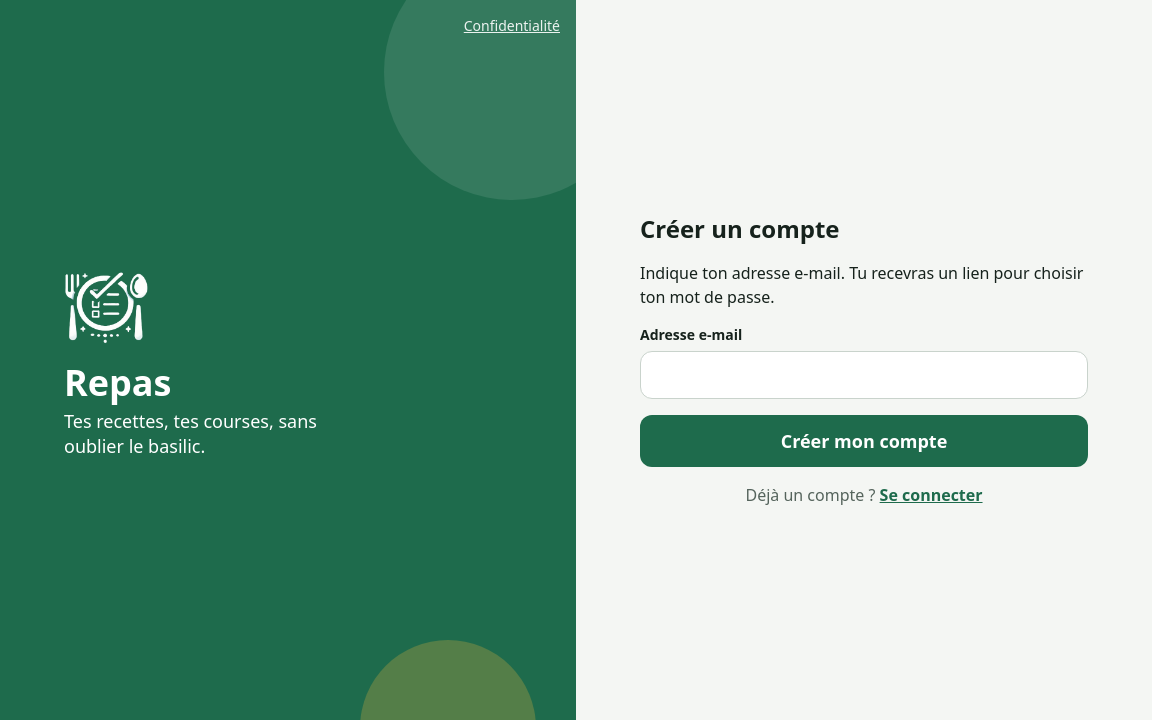
Test: RegisterView › répond clairement à un 429 (Retry-After null)
The image size is (1152, 720).
Type "alexiane@example.com" into the field labelled "Adresse e-mail" at (864, 375), box left=640, top=351, right=1088, bottom=399
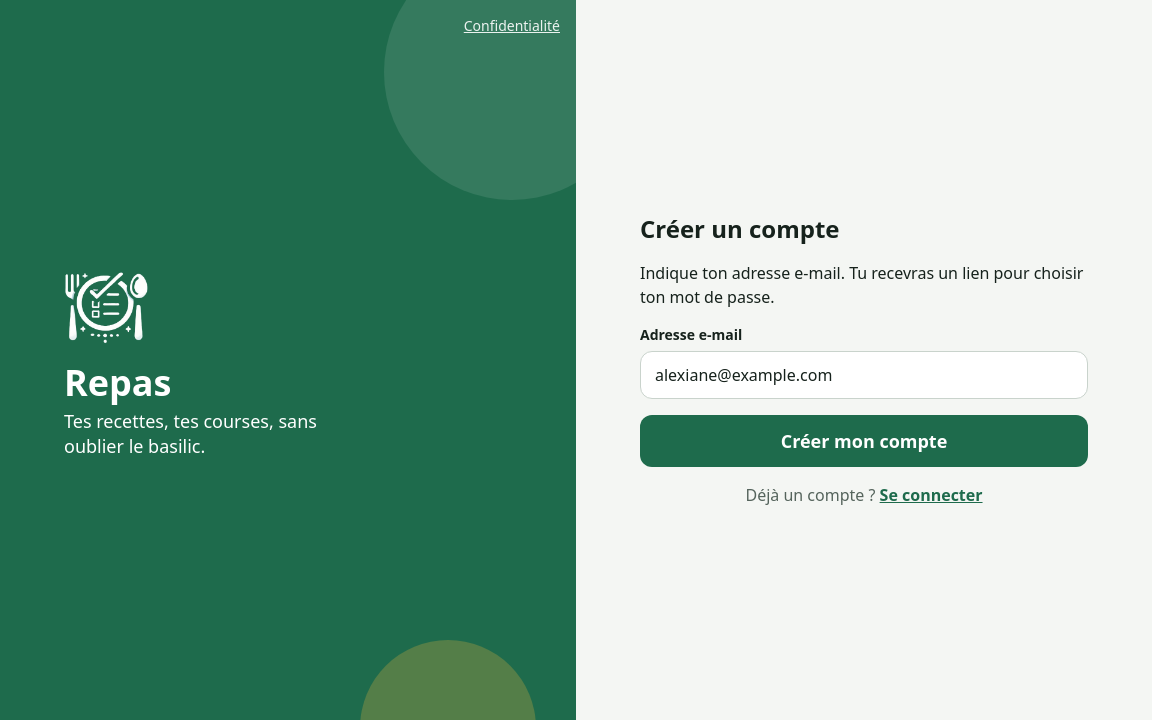
Submit the form, box left=640, top=325, right=1088, bottom=467
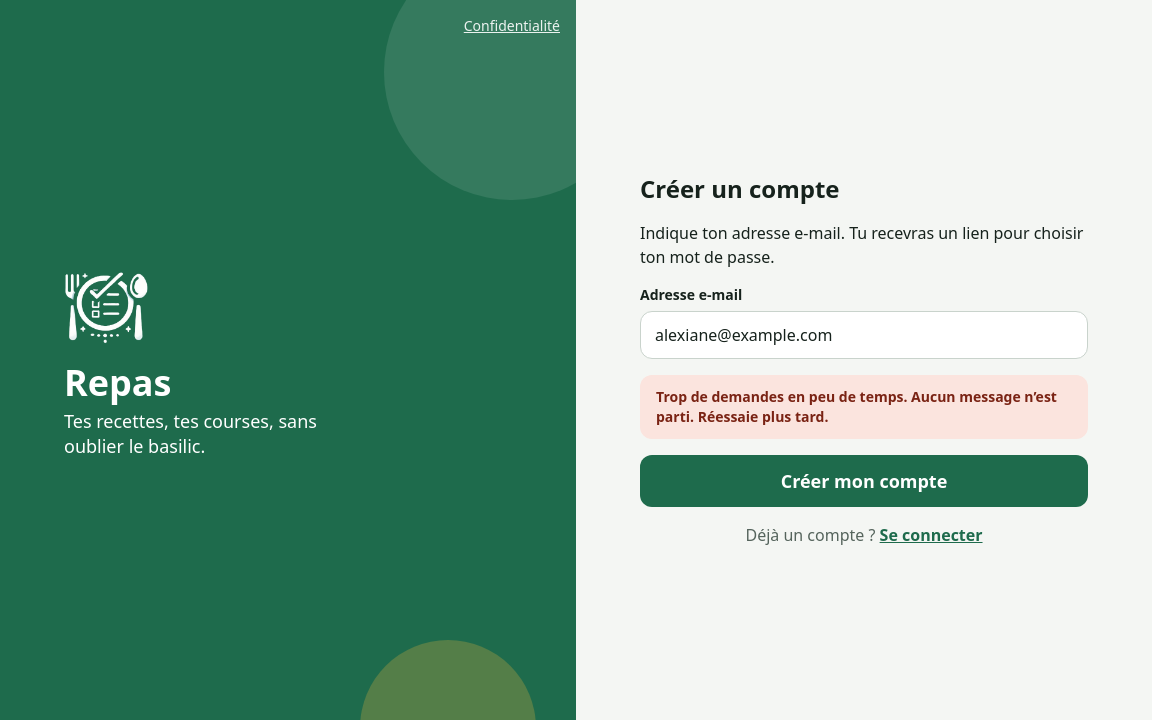
Expected: the submit button is enabled, left=640, top=455, right=1088, bottom=507
Result: the message reads "Trop de demandes en peu de temps. Aucun message n’est parti. Réessaie plus tard." at left=656, top=387, right=1057, bottom=426
